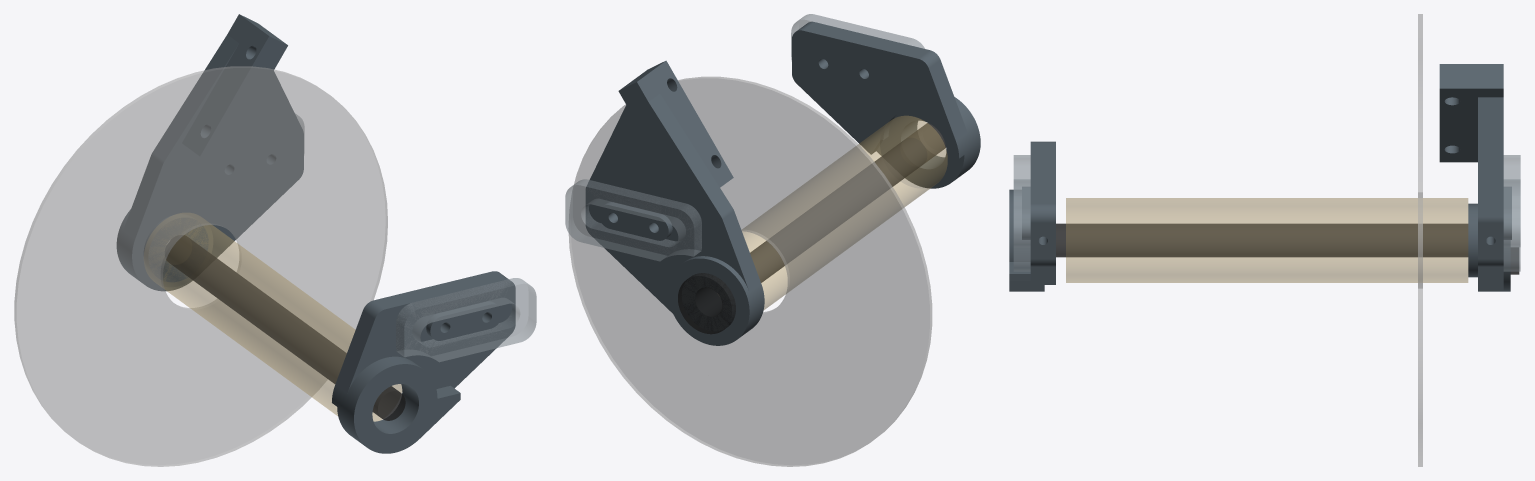
Rendered from assembly.glb.
The picture shows the model from 3 angles, left to right: view 1: azimuth 30°, elevation 25°; view 2: azimuth 150°, elevation 25°; view 3: azimuth 270°, elevation 25°; orthographic projection. The views are drawn at different scales.
Parts seen in each view (by area): view 1: rotor, dropout_left, dropout_right, hub, thru_axle, frame_plate_right; view 2: rotor, dropout_left, dropout_right, hub, thru_axle, frame_plate_left, frame_plate_right; view 3: hub, thru_axle, dropout_left, dropout_right, rotor, frame_plate_right, frame_plate_left.
Boxes of the visible parts, x1,y1,x2,y2 form: rotor: [14, 66, 387, 466]; dropout_left: [116, 14, 303, 291]; dropout_right: [332, 271, 515, 453]; hub: [144, 213, 402, 421]; thru_axle: [165, 235, 405, 420]; frame_plate_right: [396, 278, 536, 362]; rotor: [568, 76, 932, 466]; dropout_left: [585, 60, 764, 345]; dropout_right: [792, 21, 980, 188]; hub: [742, 115, 947, 309]; thru_axle: [678, 123, 945, 334]; frame_plate_left: [565, 179, 701, 261]; frame_plate_right: [791, 14, 924, 60]; hub: [1066, 198, 1468, 282]; thru_axle: [1056, 223, 1519, 274]; dropout_left: [1439, 64, 1511, 291]; dropout_right: [1009, 141, 1055, 291]; rotor: [1418, 14, 1422, 466]; frame_plate_right: [1013, 155, 1030, 271]; frame_plate_left: [1503, 155, 1520, 271].
Size of the model in its own units: 160 by 164 by 181.
